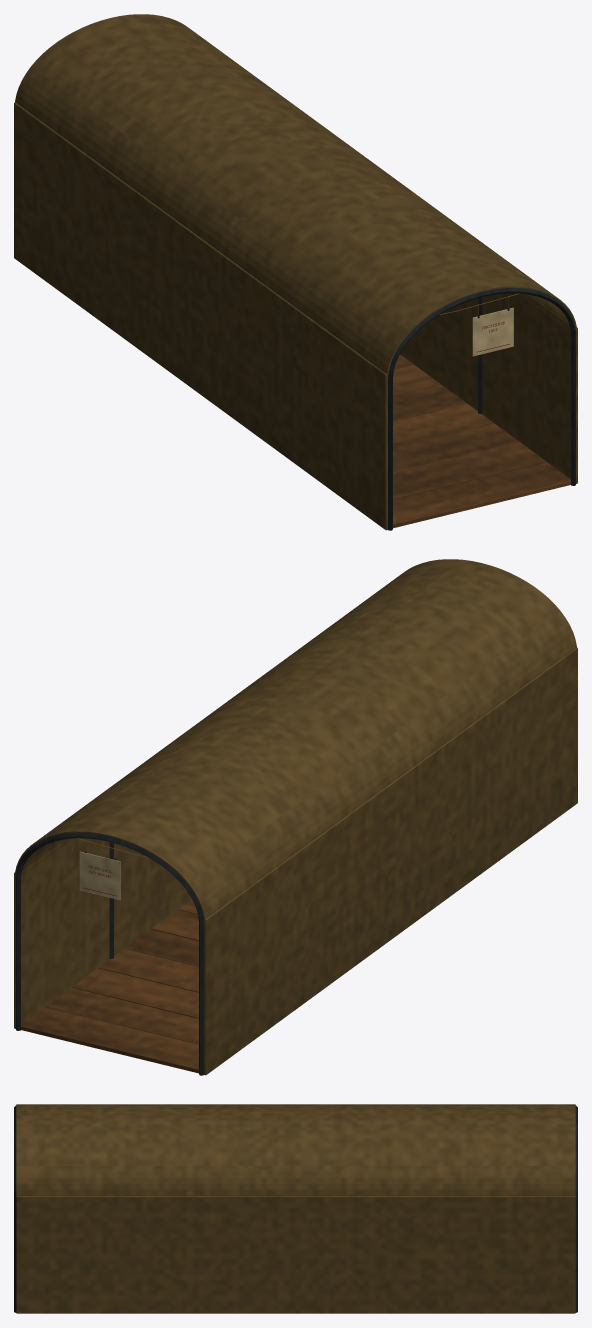
File: poster_tunnel.glb
The picture shows the model from 3 angles, top to bottom: view 1: azimuth 30°, elevation 25°; view 2: azimuth 150°, elevation 25°; view 3: azimuth 270°, elevation 25°; orthographic projection. The views are drawn at different scales.
Visible parts, largest first — view 1: poster_tunnel; view 2: poster_tunnel; view 3: poster_tunnel.
Part boxes in pixels (bbox=[...]): poster_tunnel: bbox=[14, 14, 577, 530]; poster_tunnel: bbox=[14, 559, 577, 1075]; poster_tunnel: bbox=[14, 1104, 577, 1313].
Bounding box in the file's own units: 2.84 × 3.06 × 9.57.
Materials: 8 (7 with a texture image).
